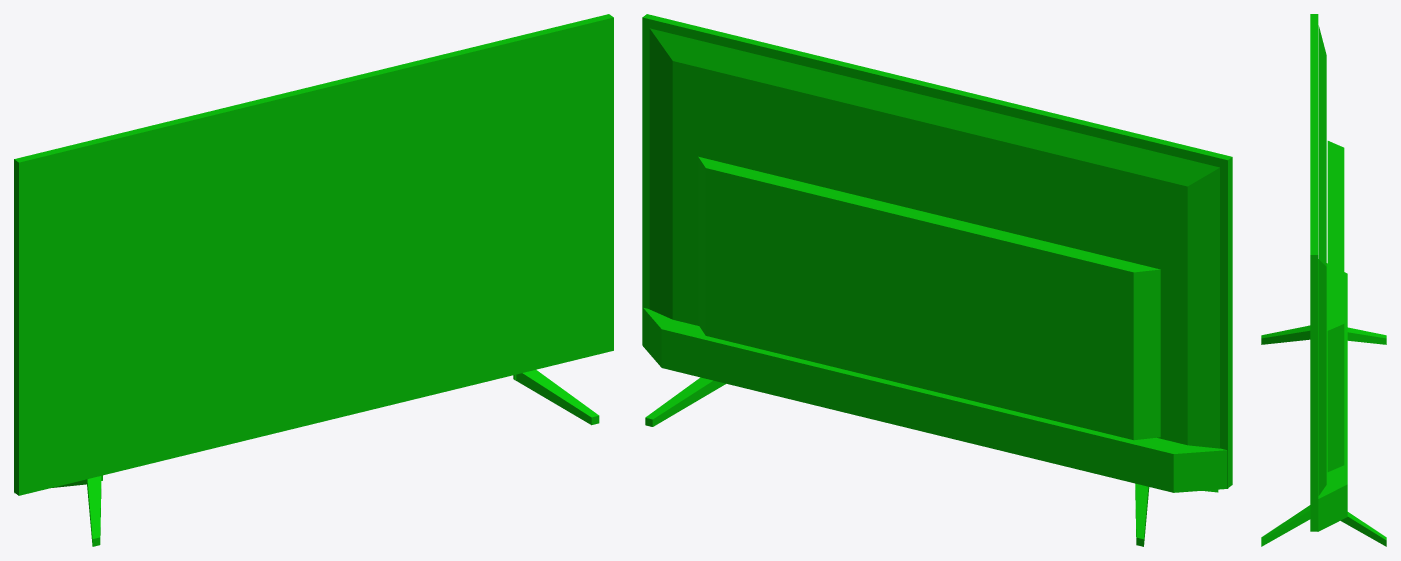
Rendered from UCX_TV.fbx.
3 renders of one model, left to right at view 1: azimuth 30°, elevation 25°; view 2: azimuth 150°, elevation 25°; view 3: azimuth 270°, elevation 25°, orthographic. The views are drawn at different scales.
Parts seen in each view (by area): view 1: UCX_TV; view 2: UCX_TV; view 3: UCX_TV.
Part boxes in pixels (x1,y1,x2,y2): UCX_TV: (14,14,613,546); UCX_TV: (642,14,1232,546); UCX_TV: (1261,14,1386,546).
Size of the model in its own units: 1.1 by 0.6613 by 0.2426.
